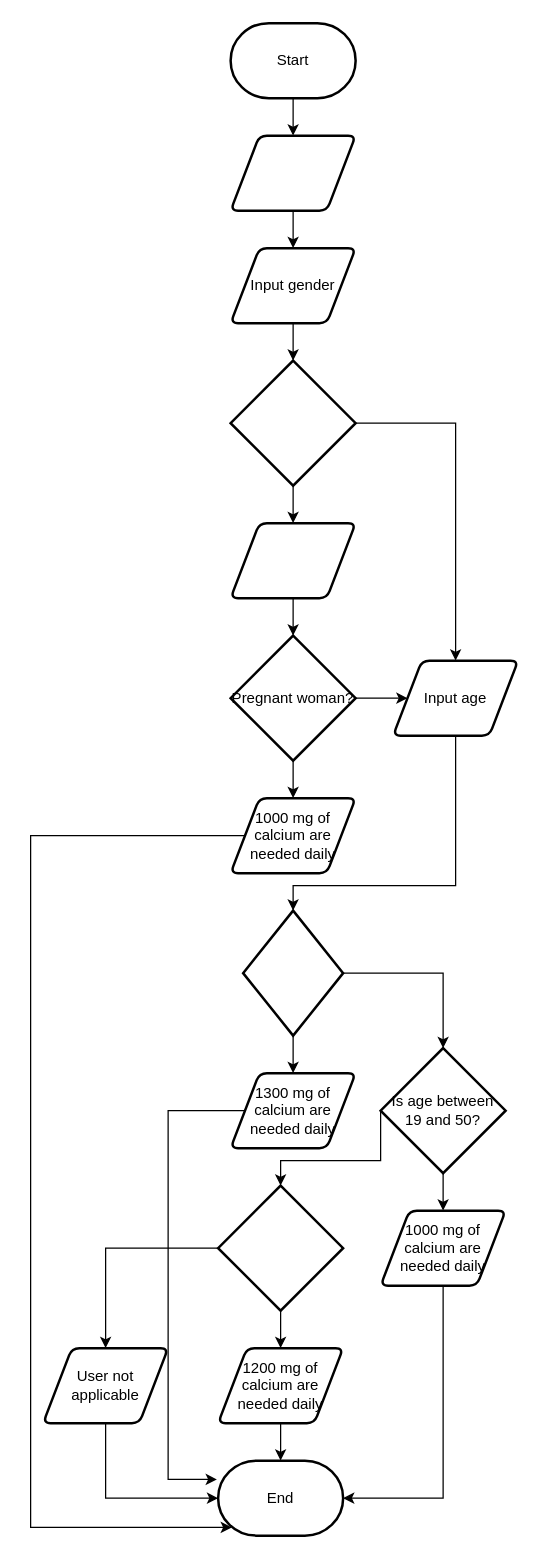
This 541x1559 diagram has some shape labels left out. Here are the shapes that lost their labels. From the top down, the box of each, then its label:
(229, 134, 356, 211): Display program instructions
(229, 359, 356, 486): Female?
(229, 521, 356, 599): Input pregnancy confirmation
(241, 909, 344, 1036): Is age between 9 and 18?
(216, 1184, 344, 1311): Is age between 51 and 70?
